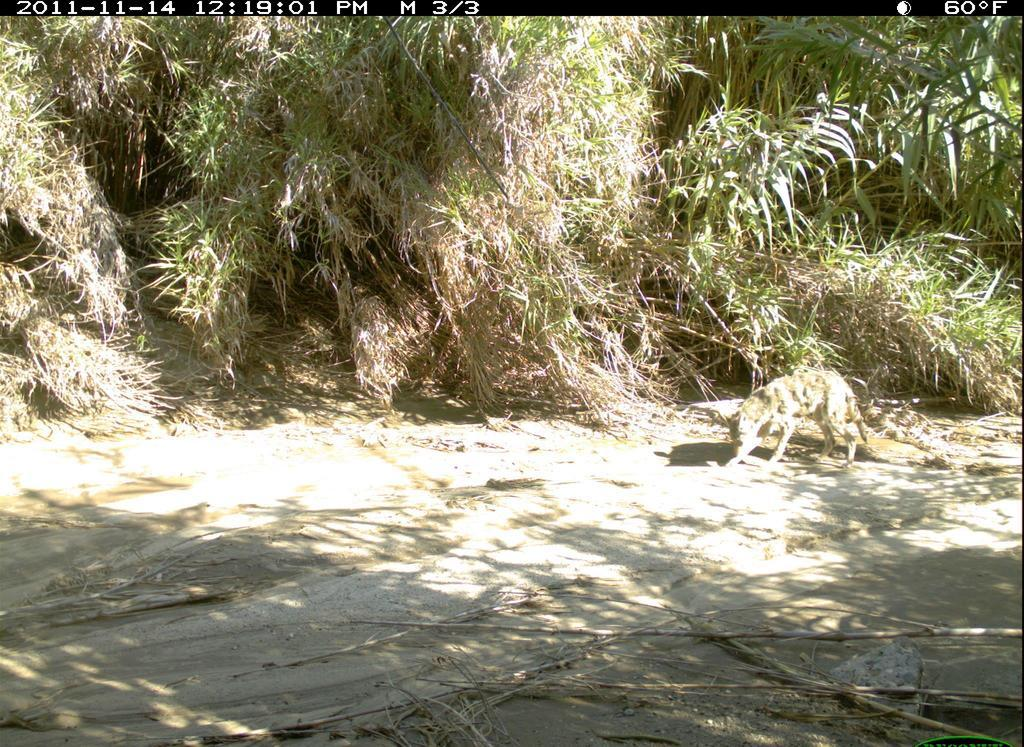coyote: (719, 363, 903, 487)
